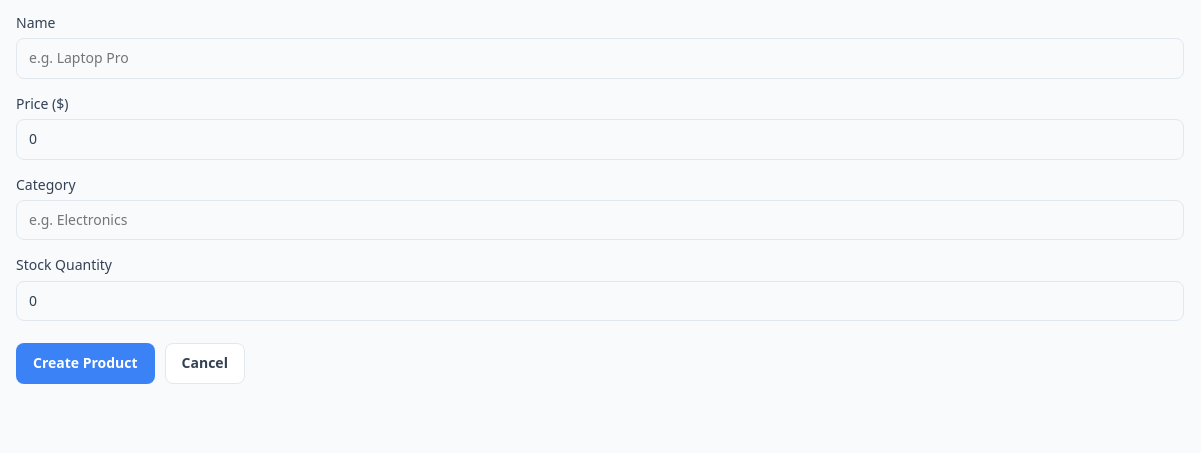
ProductForm › shows validation error when name is empty
Click the button "Create Product": (85, 363) [16,343,155,384]
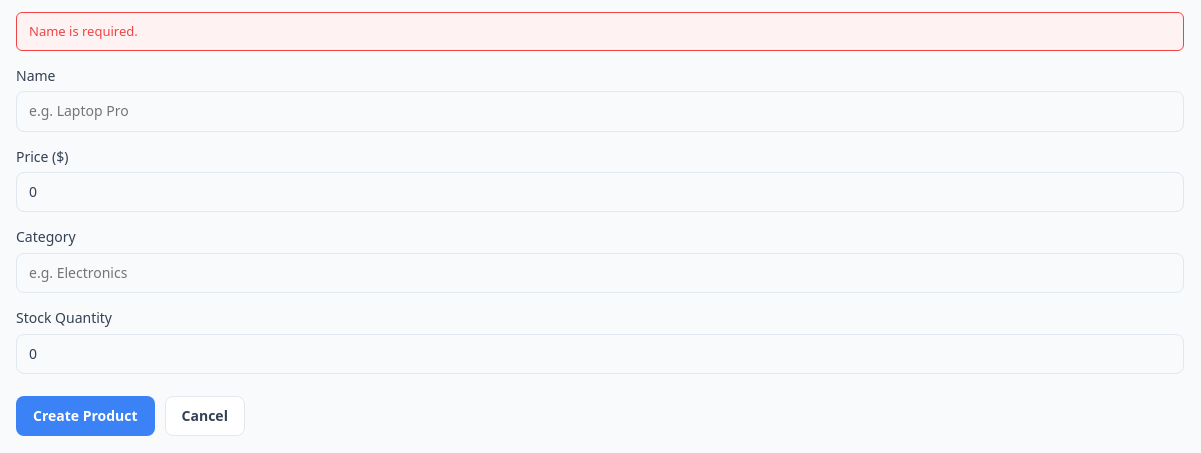
Result: the message shows "Name is required" at [29,22,138,40]
